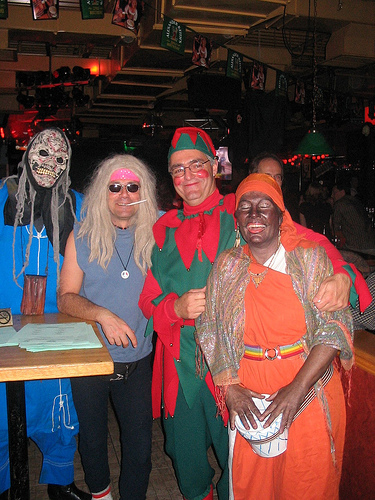with_mask: (22, 130, 70, 197)
without_mask: (233, 192, 284, 248), (167, 152, 217, 206), (106, 169, 143, 225), (329, 185, 353, 204)
